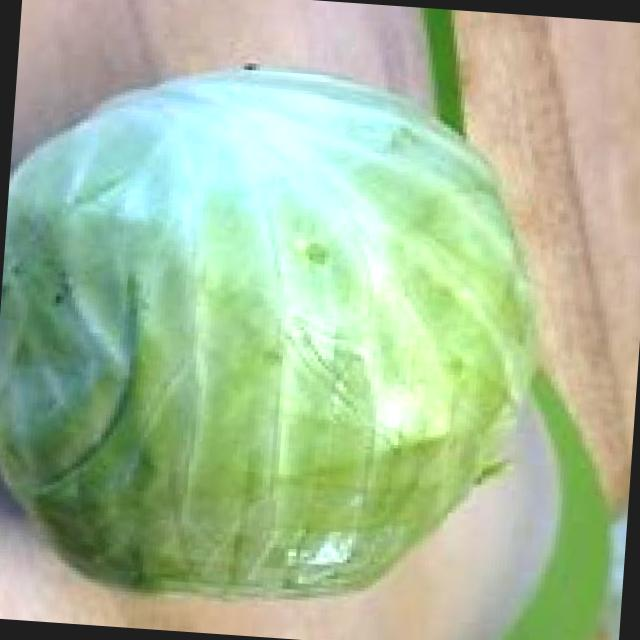cabbage: (0, 43, 542, 624)
